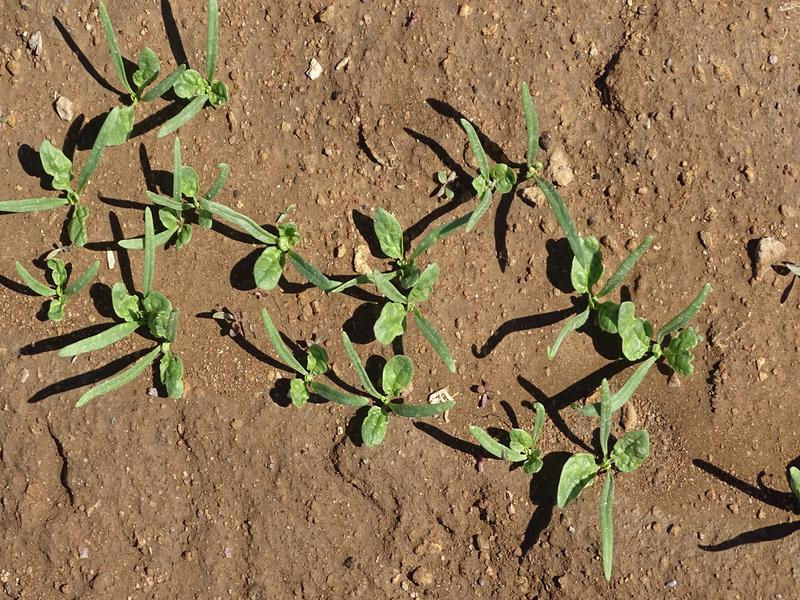Espinaca: (31, 18, 332, 413), (542, 182, 703, 384), (482, 394, 649, 546), (350, 213, 457, 444), (449, 106, 551, 225)
